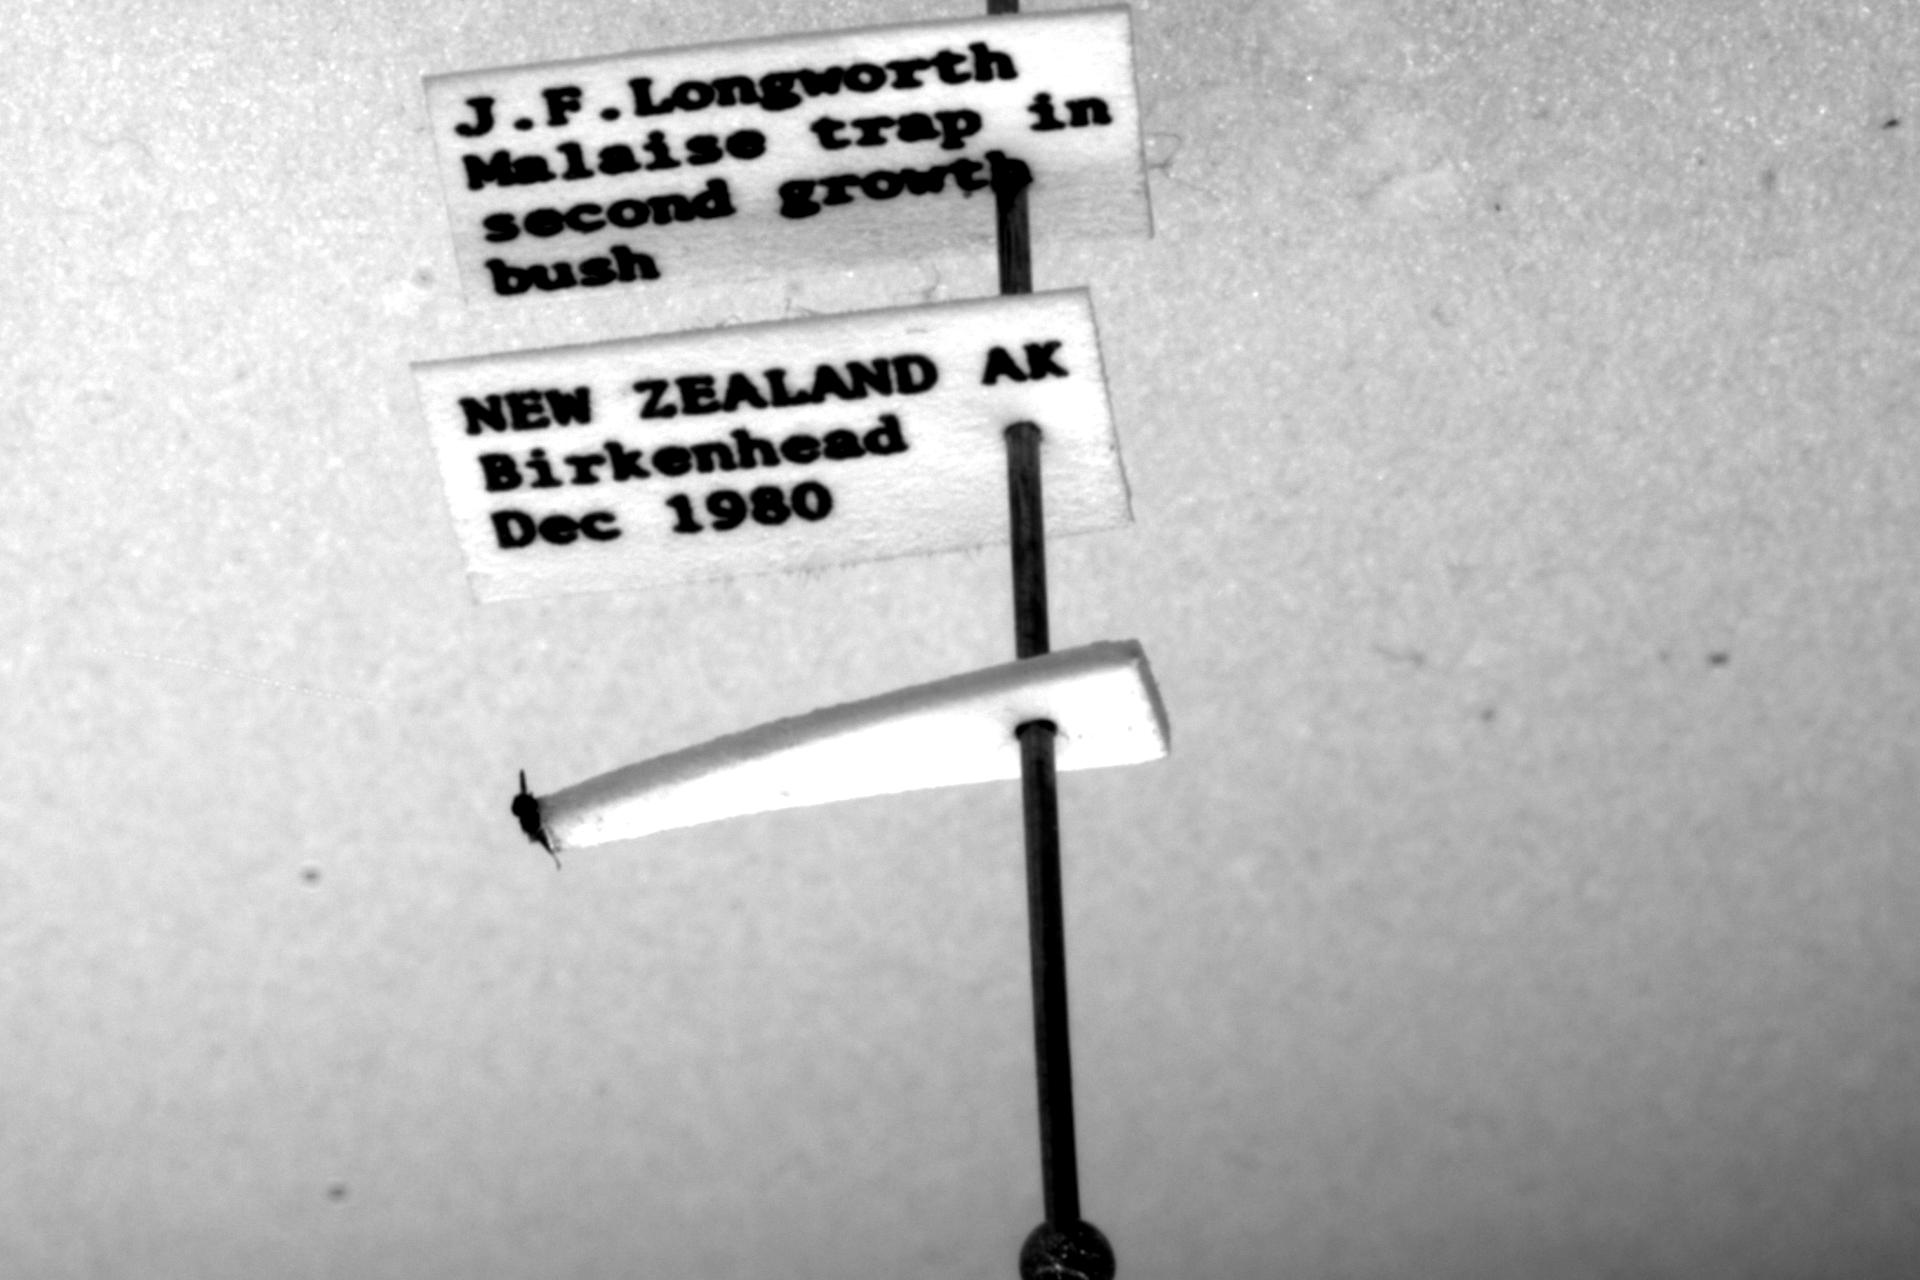typed_label: (413, 289, 1129, 600), (427, 7, 1151, 307)
